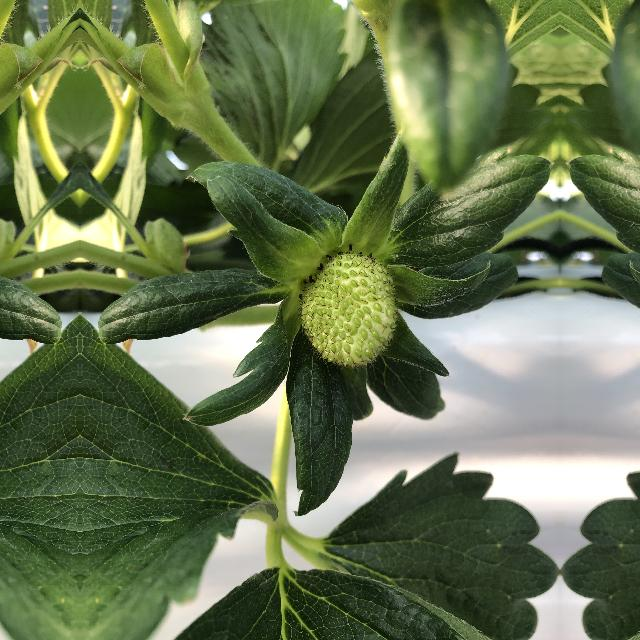Health_25: (296, 245, 416, 379)
